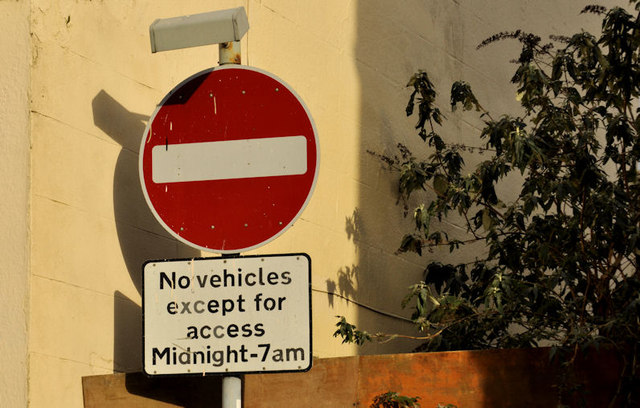No_entry: (137, 65, 320, 253)
